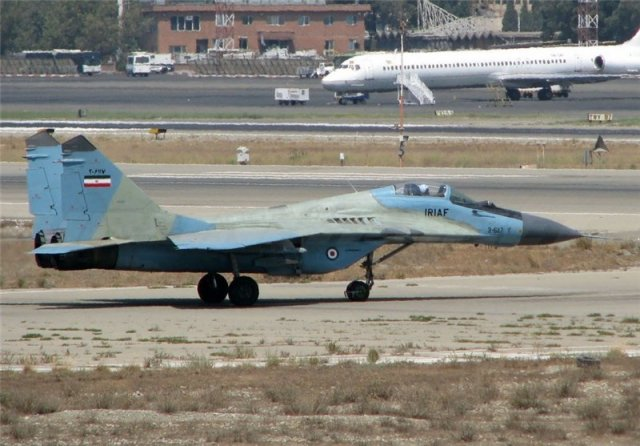Iran: (82, 172, 114, 188)
Mig-29: (20, 114, 618, 304)
